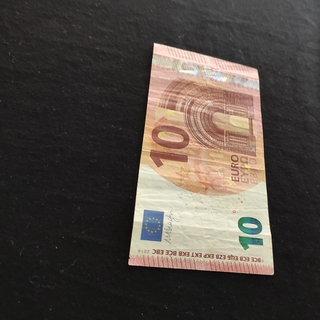10EUROFront: (127, 42, 275, 276)
